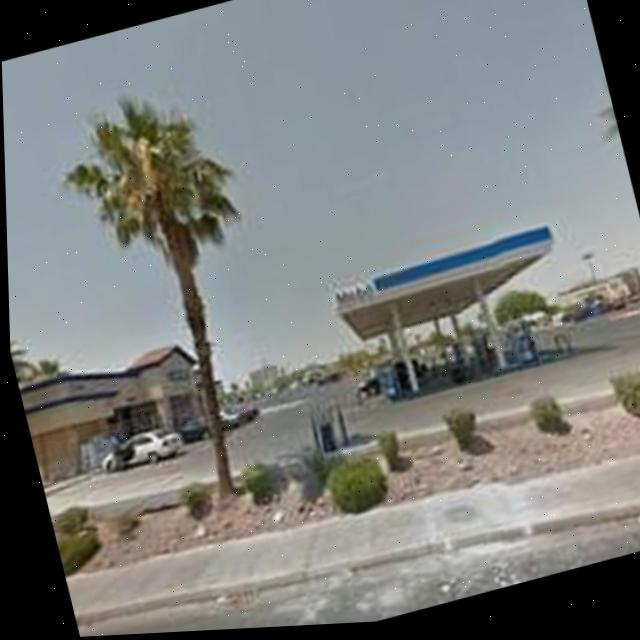building: (319, 223, 576, 410), (15, 326, 230, 482)
